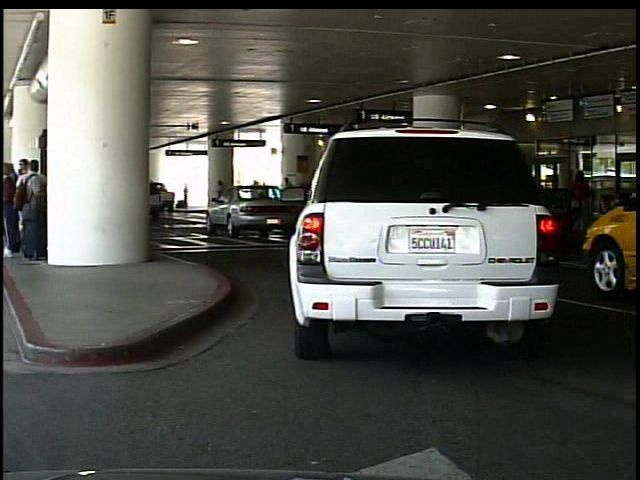person: (566, 166, 595, 204), (217, 176, 229, 211), (183, 182, 191, 209)
